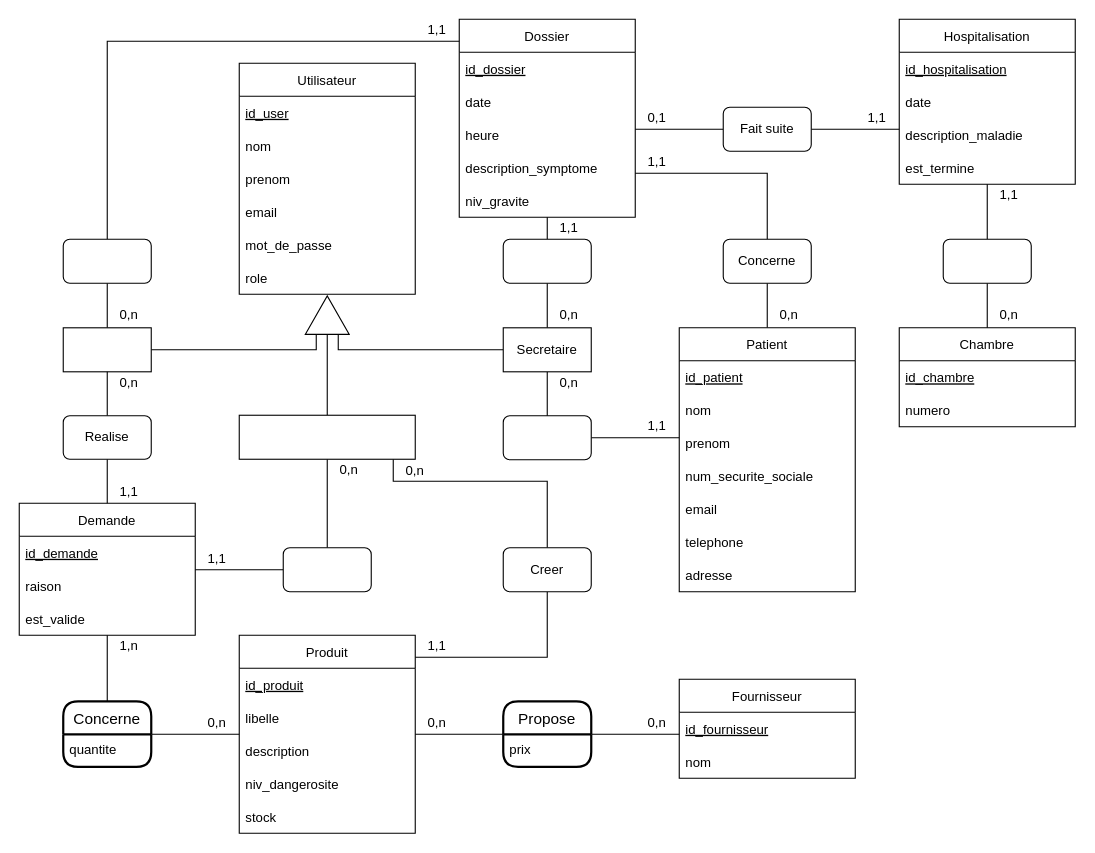
Some shapes in this 1095 by 853 pixel diagram are drawn without their labels. The shapes that lost their labels are listed below. From the top down, each one's centre as x and y in pixels, then its label:
At point 106,260: "Prend en charge".
At point 546,260: "Renseigne".
At point 986,260: "Correspond".
At point 106,349: "Medecin".
At point 326,436: "Gestionaire_de_stock".
At point 546,437: "Enregistre".
At point 326,569: "Valide".
